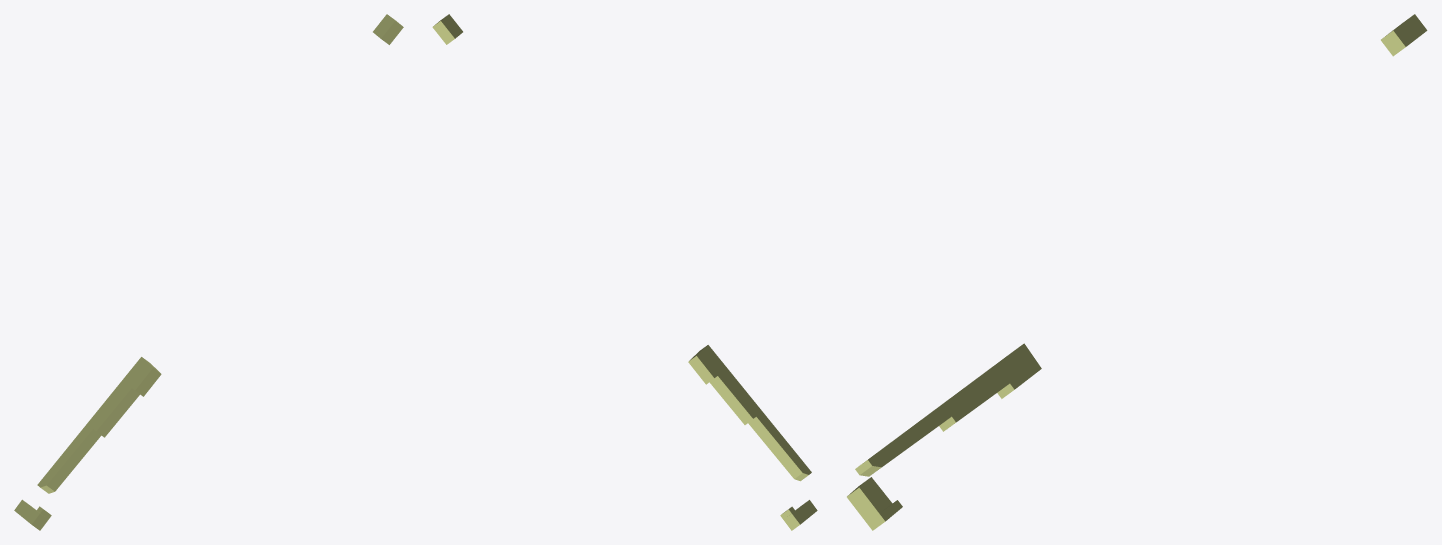
3 views of the same model, side by side, from view 1: azimuth 30°, elevation 25°; view 2: azimuth 150°, elevation 25°; view 3: azimuth 330°, elevation 25° (orthographic). The views are drawn at different scales.
Parts seen in each view (by area): view 1: 0_0_1_1_3_3; view 2: 0_0_1_1_3_3; view 3: 0_0_1_1_3_3.
Boxes of the visible parts, bbox=[...] form: 0_0_1_1_3_3: bbox=[14, 14, 403, 530]; 0_0_1_1_3_3: bbox=[432, 14, 817, 530]; 0_0_1_1_3_3: bbox=[847, 14, 1427, 530].
Size of the model in its own units: 231 by 247 by 18.2.
